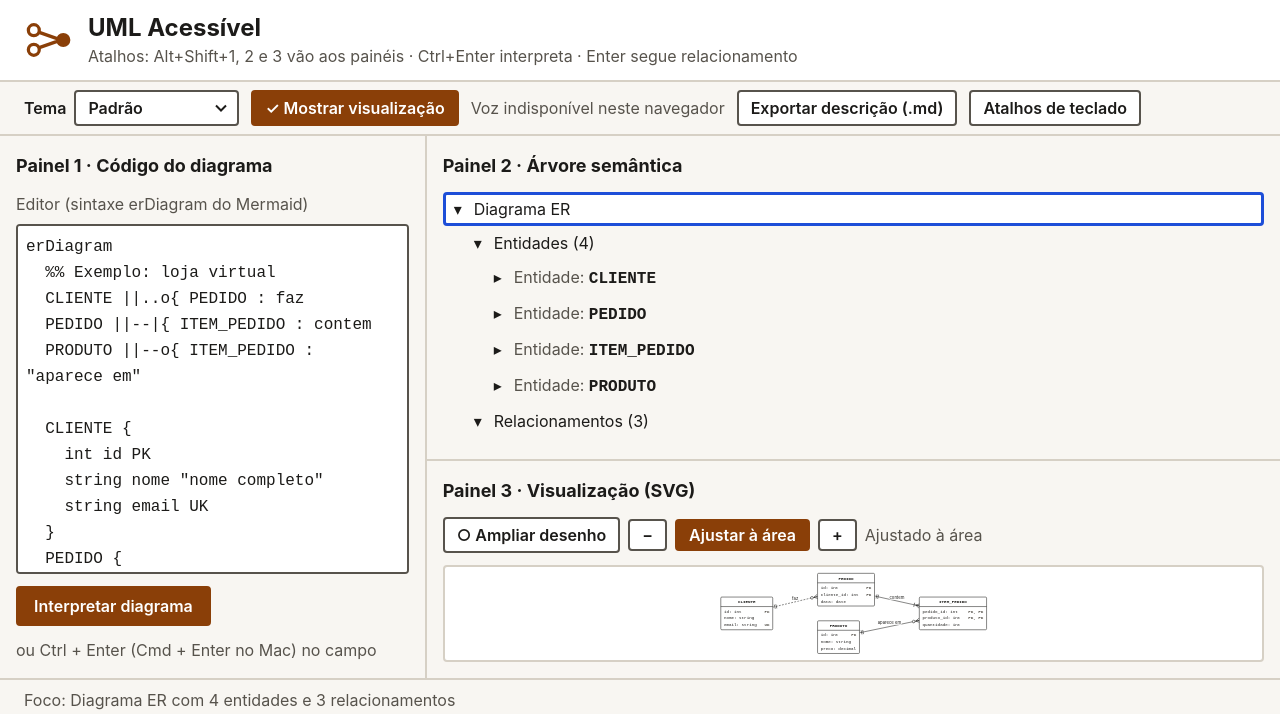
Scenario: App › mostra na barra de status a narração do item focado na árvore
The image size is (1280, 714).
Press Arrowdown Arrowdown
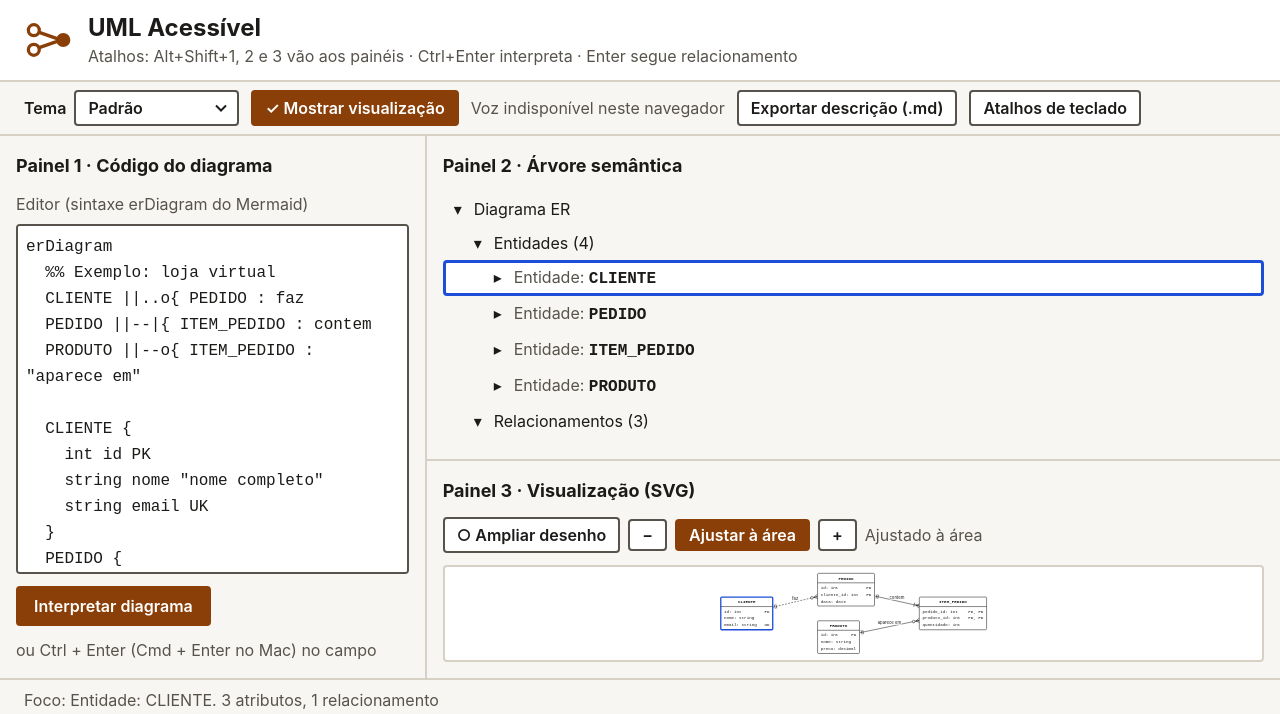
Expected: the text "Foco: Entidade: CLIENTE. 3 atributos, 1 relacionamento" is shown, [24,690,439,710]
Click the button "Interpretar diagrama" at point(113, 606), box [16,586,211,626]
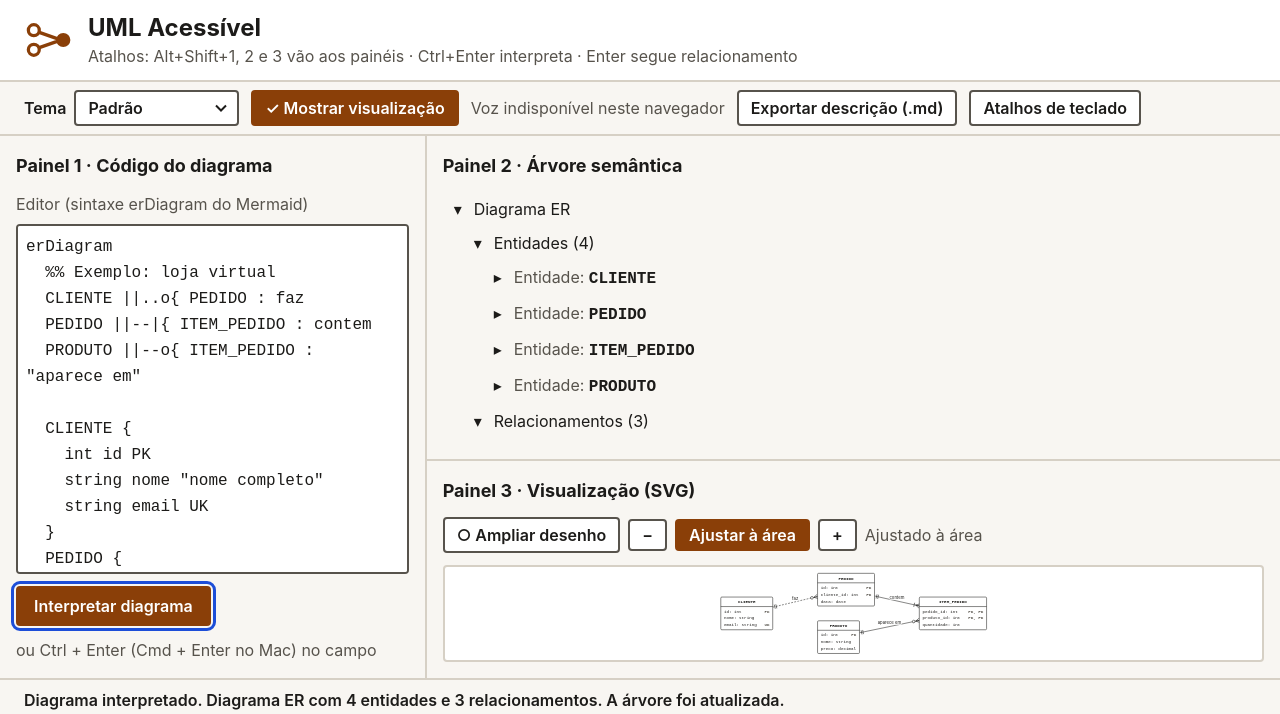
Expected: the text "Foco:" is gone
